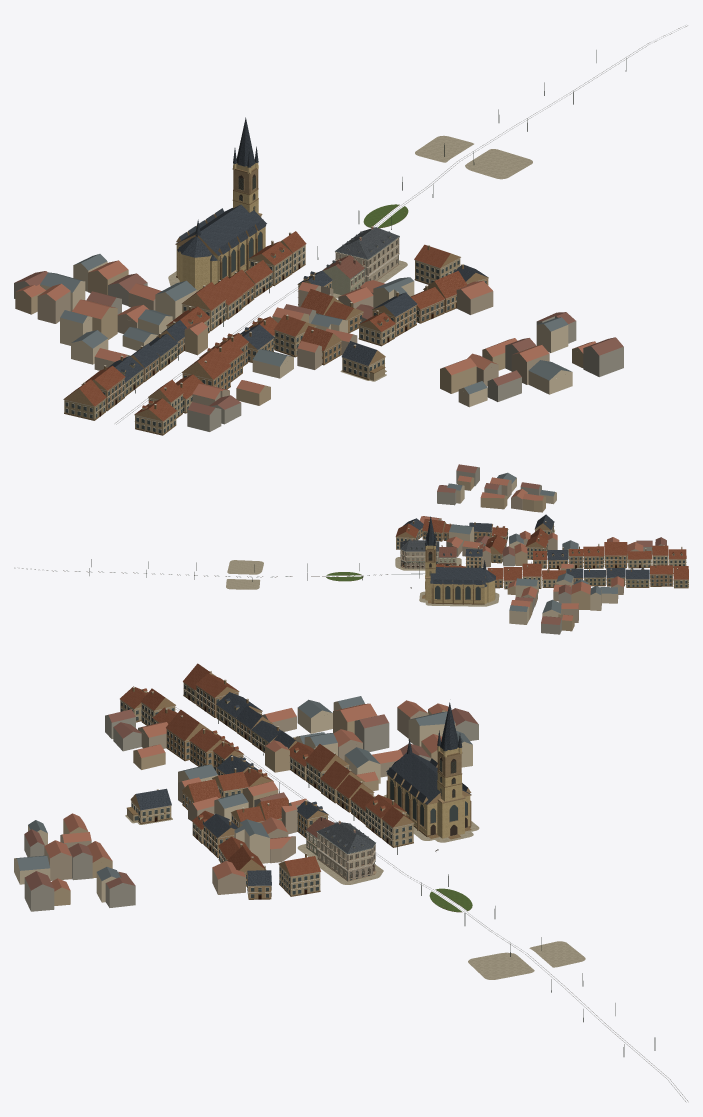
3 views of the same model, one above another, from view 1: azimuth 30°, elevation 25°; view 2: azimuth 150°, elevation 25°; view 3: azimuth 270°, elevation 25° (orthographic). The views are drawn at different scales.
Visible parts, largest first — view 1: C_-1_-1; view 2: C_-1_-1; view 3: C_-1_-1.
Part boxes in pixels (<box>): C_-1_-1: <box>14,25,687,435</box>; C_-1_-1: <box>14,464,688,634</box>; C_-1_-1: <box>14,663,688,1102</box>.
Size of the model in its own units: 406 by 61.32 by 280.
Materials: 91 (39 with a texture image).
